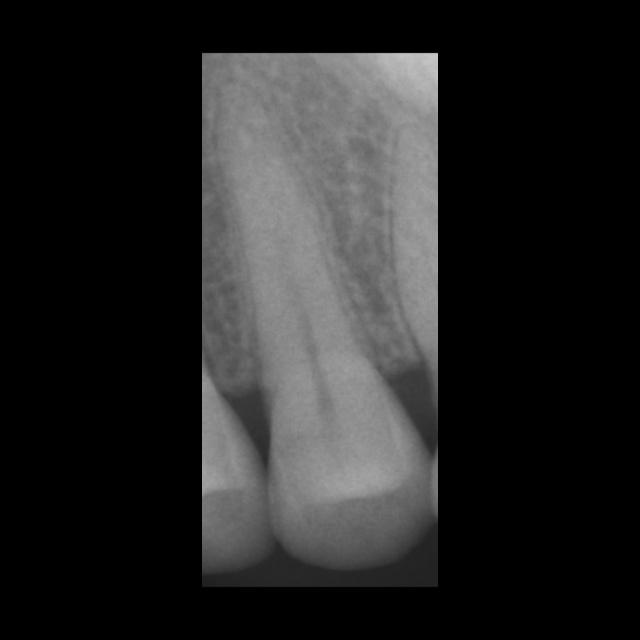tooth: (202, 54, 436, 569)
